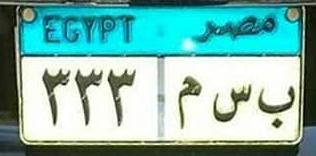3: (40, 65, 72, 130), (107, 67, 139, 130), (72, 67, 104, 128)
baa: (255, 83, 296, 129)
meem: (172, 73, 205, 131)
seen: (210, 77, 252, 127)
